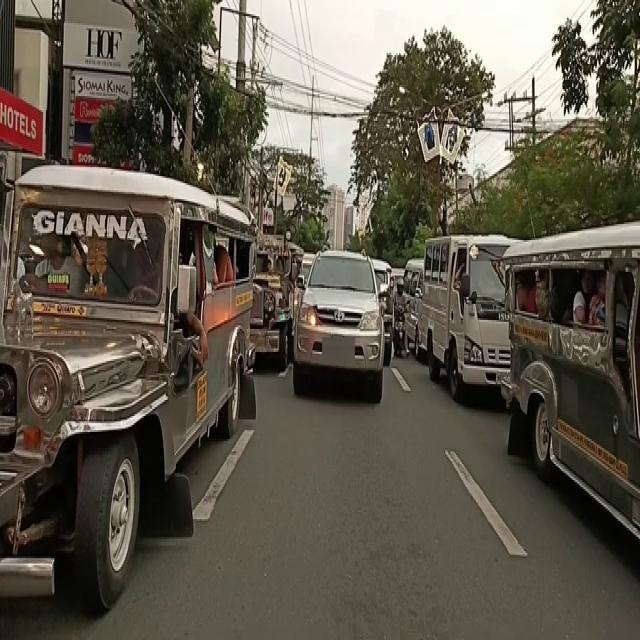car: (422, 250, 506, 397), (300, 243, 376, 397)
jeepney: (8, 200, 243, 552), (519, 248, 640, 539), (243, 226, 292, 391)
motorcycle: (392, 268, 420, 372)
